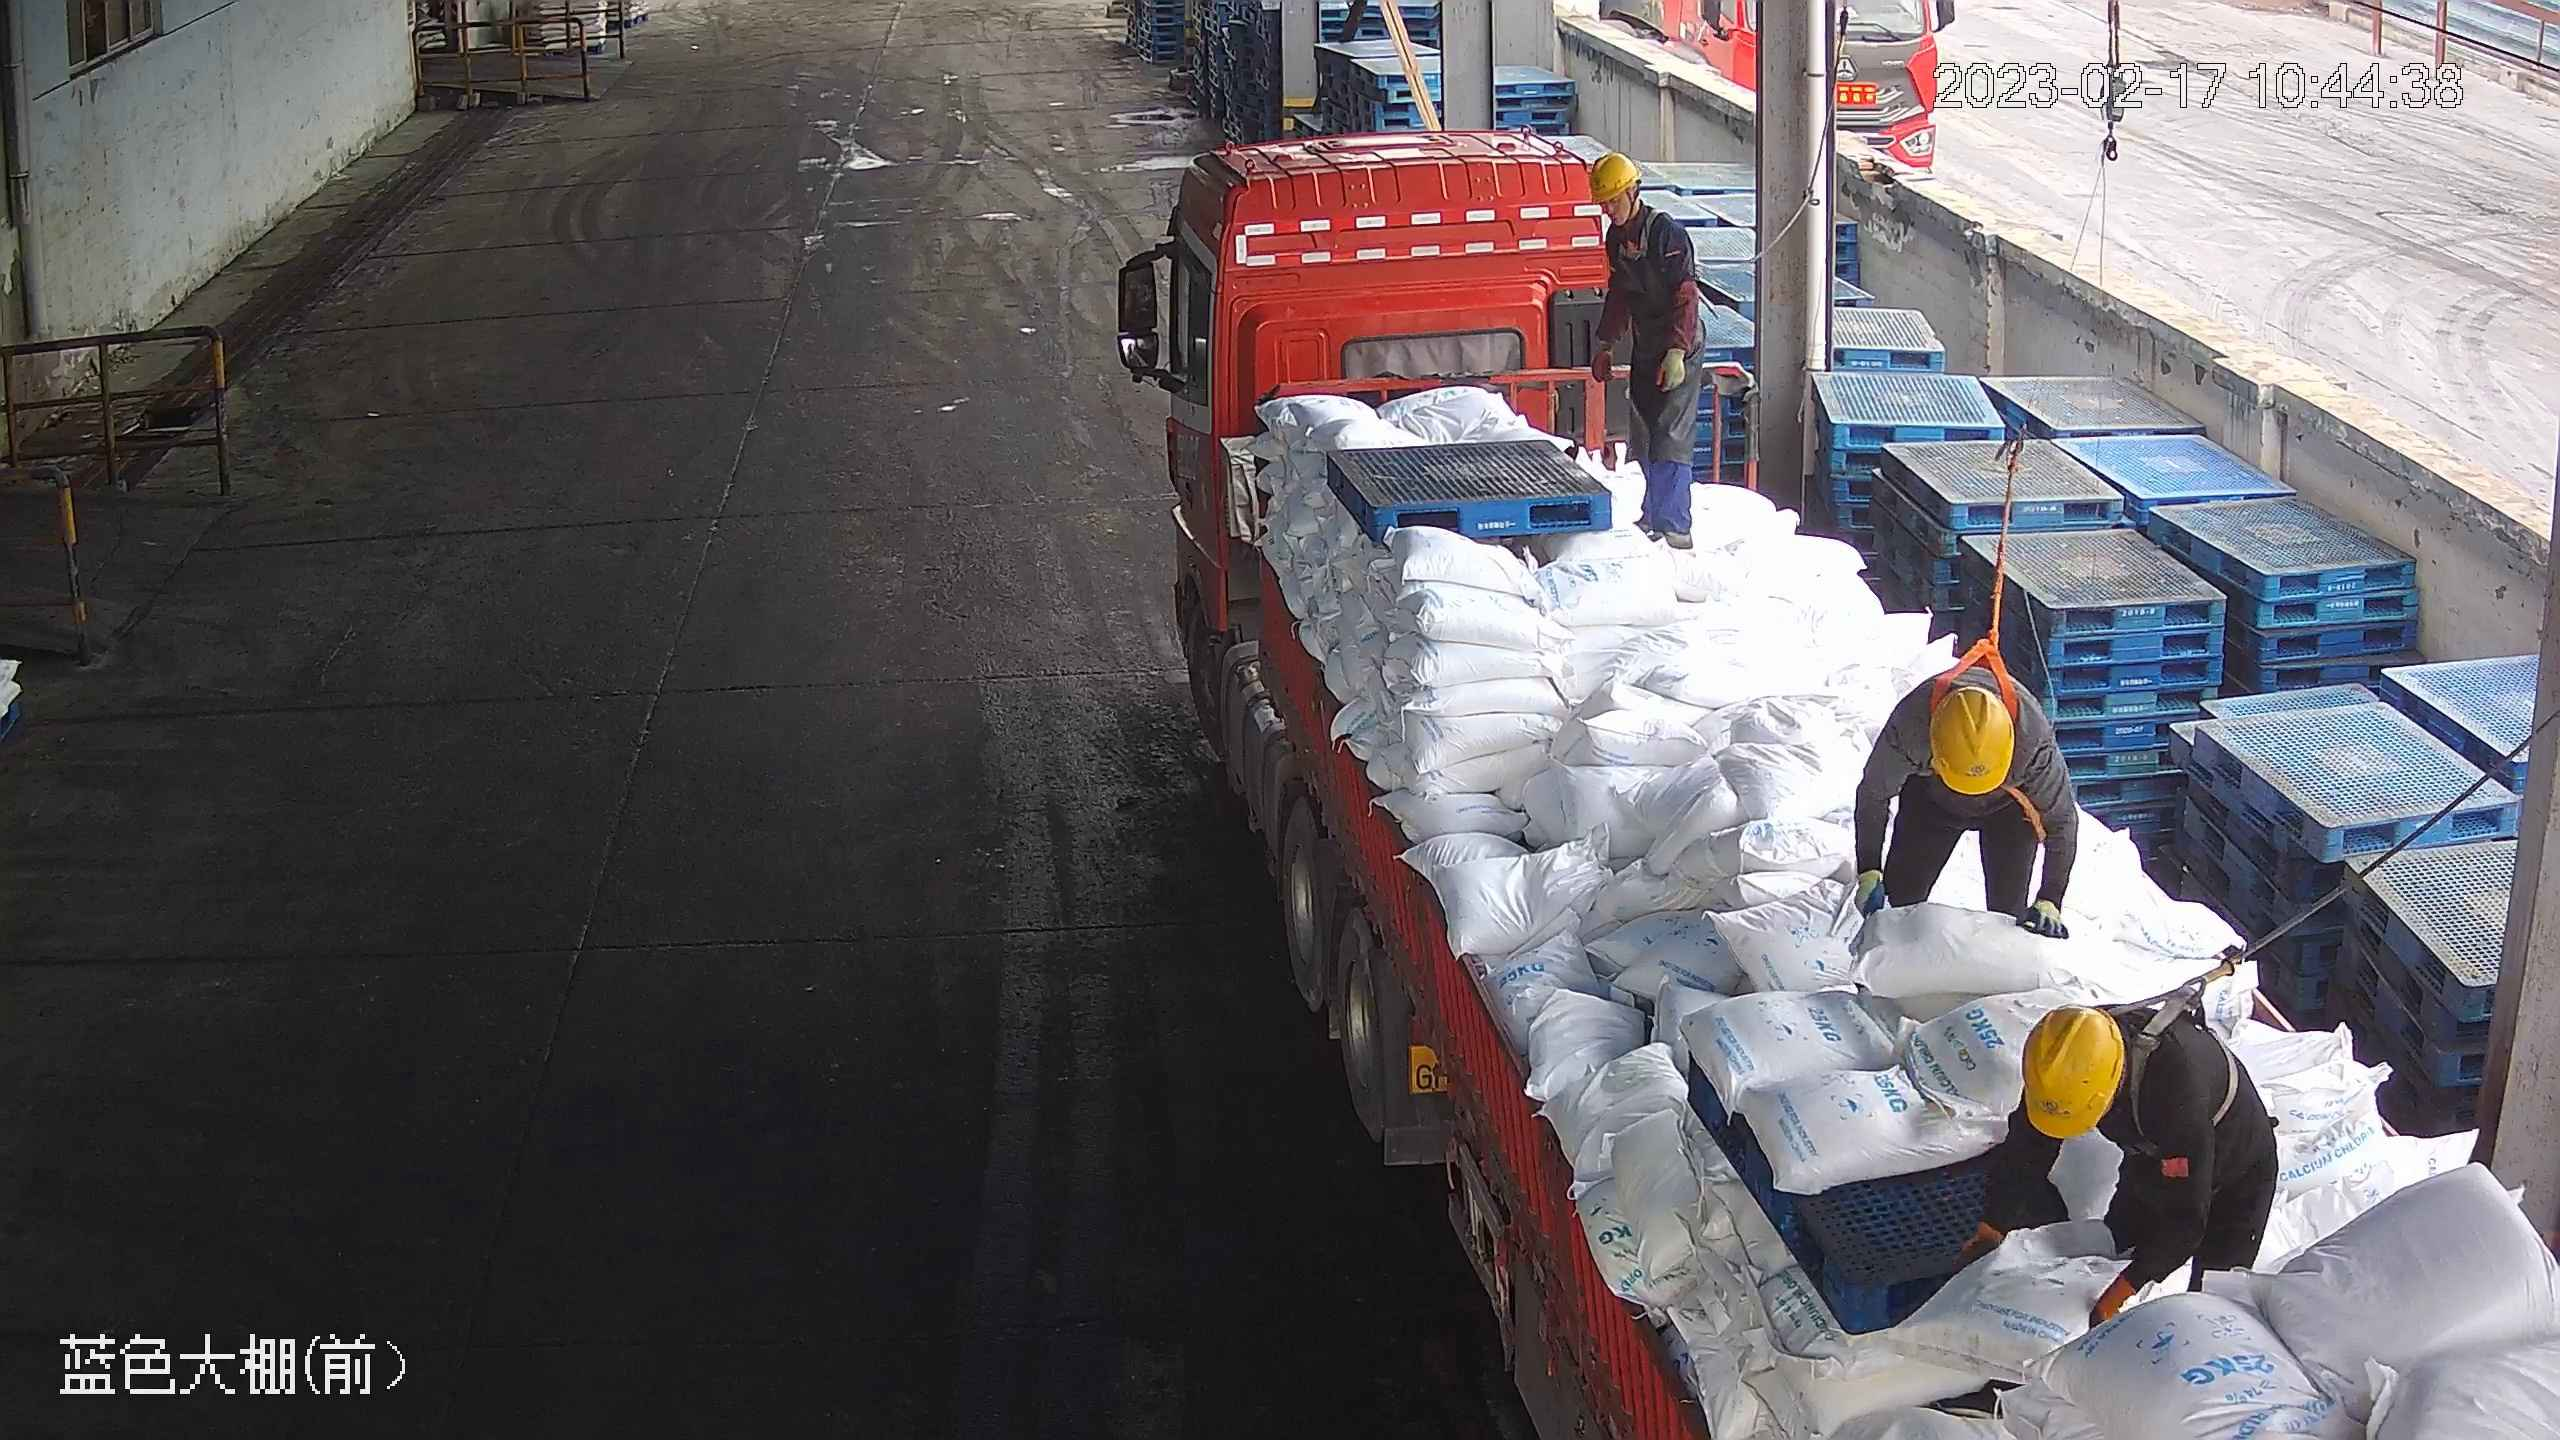belt: (2113, 961, 2262, 1147), (1922, 633, 2030, 706), (1603, 213, 1676, 266)
head: (2020, 1006, 2203, 1169), (1890, 662, 2054, 822), (1584, 152, 1698, 294)
helmet: (2020, 1006, 2127, 1140), (1930, 684, 2018, 796), (1588, 152, 1642, 201)
people: (1969, 1005, 2283, 1335), (1851, 666, 2088, 950), (1583, 147, 1703, 561)
truck: (1105, 125, 2560, 1440)
